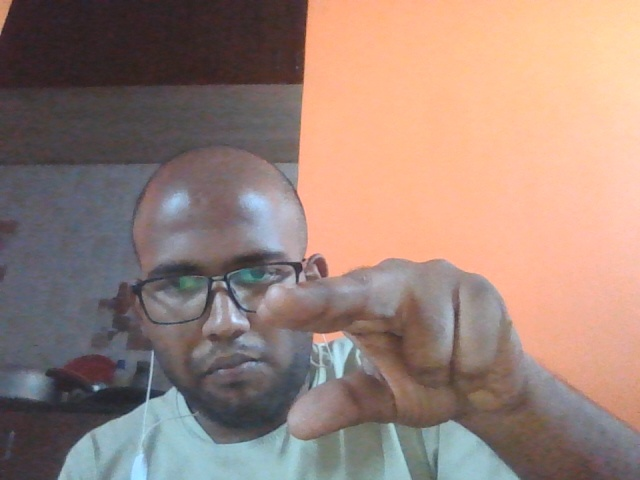no: (232, 249, 568, 450)
